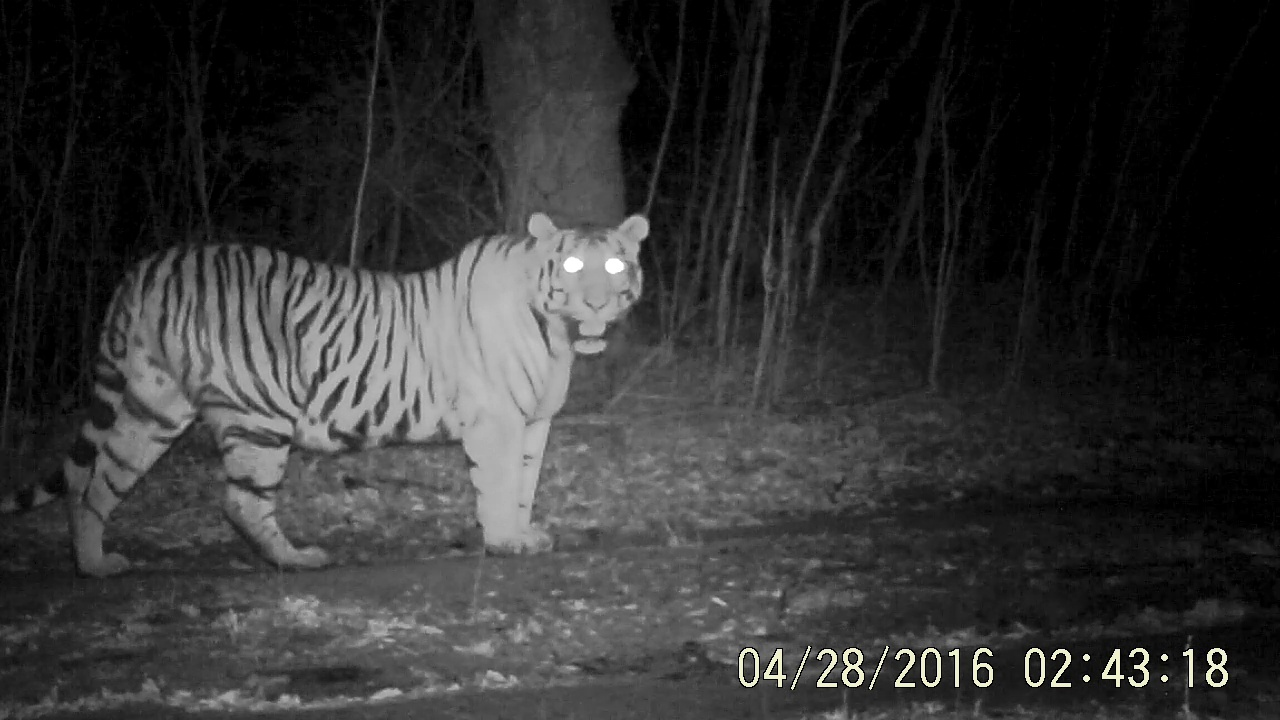Tiger: (14, 62, 673, 656)
